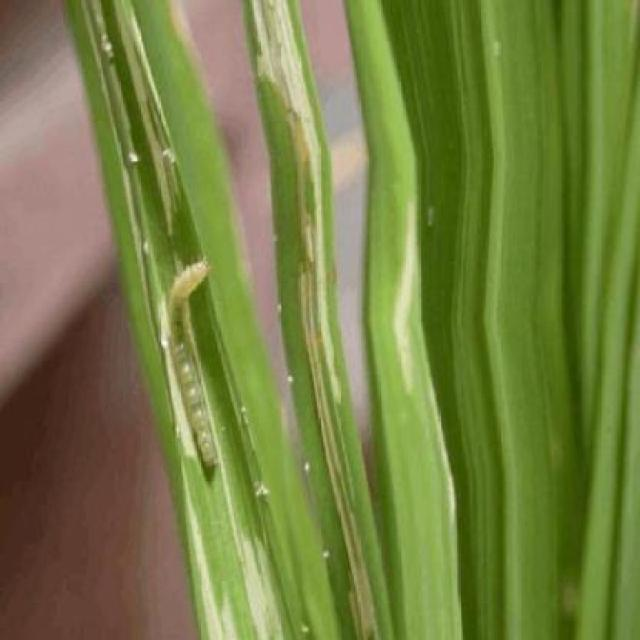leaf-folder: (146, 245, 268, 520)
